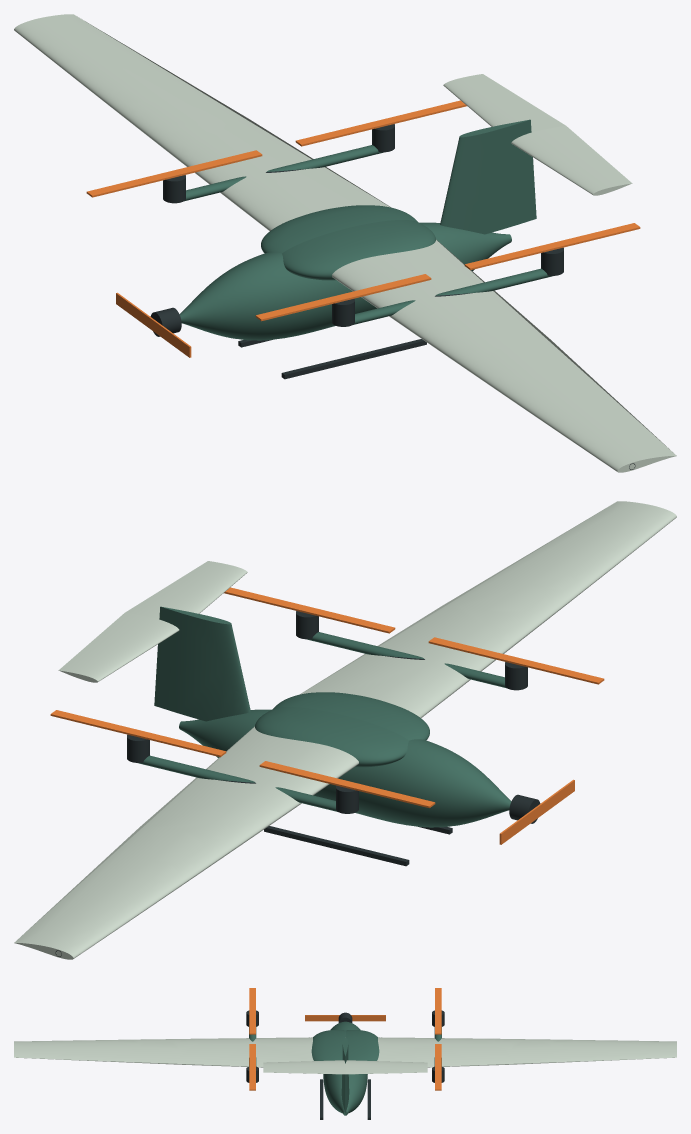
The model's file is surface_tools-05-model.glb.
The picture shows the model from 3 angles, top to bottom: view 1: azimuth 30°, elevation 25°; view 2: azimuth 150°, elevation 25°; view 3: azimuth 270°, elevation 25°; orthographic projection. The views are drawn at different scales.
Visible parts, largest first — view 1: wing-1, wing1, fuselage, fin, root_fairing-1, tail-1, root_fairing1, tail1, boom_fairing-1, boom_fairing1, prop_-1_200.0, prop_1_200.0 (+4 smaller); view 2: wing1, wing-1, fuselage, fin, root_fairing1, tail1, root_fairing-1, tail-1, boom_fairing1, boom_fairing-1, prop_-1_200.0, prop_1_200.0 (+4 smaller); view 3: wing-1, wing1, fuselage, tail-1, tail1, root_fairing-1, root_fairing1, cruise_prop, fin, prop_-1_200.0, prop_-1_700.0, prop_1_200.0 (+1 smaller).
Boxes of the visible parts, left/top/right/bottom form: wing-1: left=332, top=239, right=676, bottom=472; wing1: left=14, top=14, right=390, bottom=230; fuselage: left=179, top=222, right=511, bottom=340; fin: left=440, top=119, right=536, bottom=234; root_fairing-1: left=282, top=220, right=435, bottom=280; tail-1: left=511, top=126, right=632, bottom=195; root_fairing1: left=261, top=205, right=418, bottom=253; tail1: left=443, top=74, right=565, bottom=132; boom_fairing-1: left=353, top=268, right=552, bottom=324; boom_fairing1: left=184, top=145, right=383, bottom=201; prop_-1_200.0: left=255, top=274, right=431, bottom=321; prop_1_200.0: left=86, top=150, right=262, bottom=197; wing1: left=14, top=726, right=358, bottom=959; wing-1: left=300, top=501, right=676, bottom=717; fuselage: left=179, top=709, right=511, bottom=827; fin: left=154, top=606, right=250, bottom=721; root_fairing1: left=255, top=707, right=408, bottom=767; tail1: left=58, top=613, right=179, bottom=682; root_fairing-1: left=272, top=692, right=429, bottom=740; tail-1: left=125, top=561, right=247, bottom=619; boom_fairing1: left=138, top=755, right=337, bottom=811; boom_fairing-1: left=307, top=632, right=506, bottom=688; prop_-1_200.0: left=428, top=637, right=604, bottom=684; prop_1_200.0: left=259, top=761, right=435, bottom=808; wing-1: left=14, top=1037, right=313, bottom=1067; wing1: left=377, top=1037, right=676, bottom=1067; fuselage: left=323, top=1021, right=367, bottom=1115; tail-1: left=263, top=1060, right=345, bottom=1074; tail1: left=345, top=1060, right=427, bottom=1074; root_fairing-1: left=311, top=1030, right=345, bottom=1060; root_fairing1: left=345, top=1030, right=379, bottom=1060; cruise_prop: left=305, top=1015, right=385, bottom=1021; fin: left=341, top=1037, right=349, bottom=1113; prop_-1_200.0: left=249, top=988, right=255, bottom=1034; prop_-1_700.0: left=249, top=1044, right=255, bottom=1090; prop_1_200.0: left=435, top=988, right=441, bottom=1034.
Size of the model in its own units: 989 by 405 by 2500.
